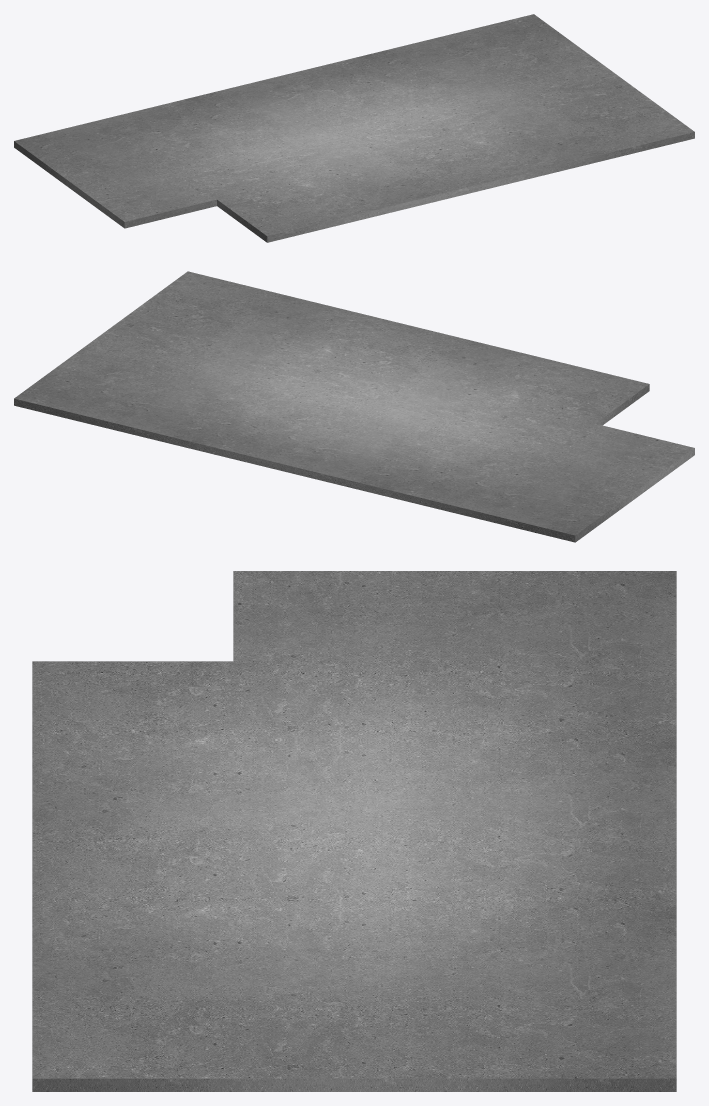
File: PD2-ROOF.glb
3 views of the same model, one above another, from view 1: azimuth 30°, elevation 25°; view 2: azimuth 150°, elevation 25°; view 3: azimuth 270°, elevation 25° (orthographic). The views are drawn at different scales.
Visible parts, largest first — view 1: PD2-ROOF; view 2: PD2-ROOF; view 3: PD2-ROOF.
Boxes of the visible parts, <box> form: PD2-ROOF: <box>14,14,694,242</box>; PD2-ROOF: <box>14,271,694,542</box>; PD2-ROOF: <box>32,571,676,1091</box>.
Size of the model in its own units: 12.4 by 0.15 by 6.65.
Materials: 1 (1 with a texture image).
